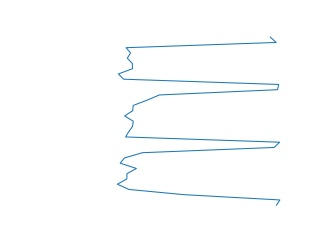majorRiverChannelBar: (115, 36, 283, 206)
